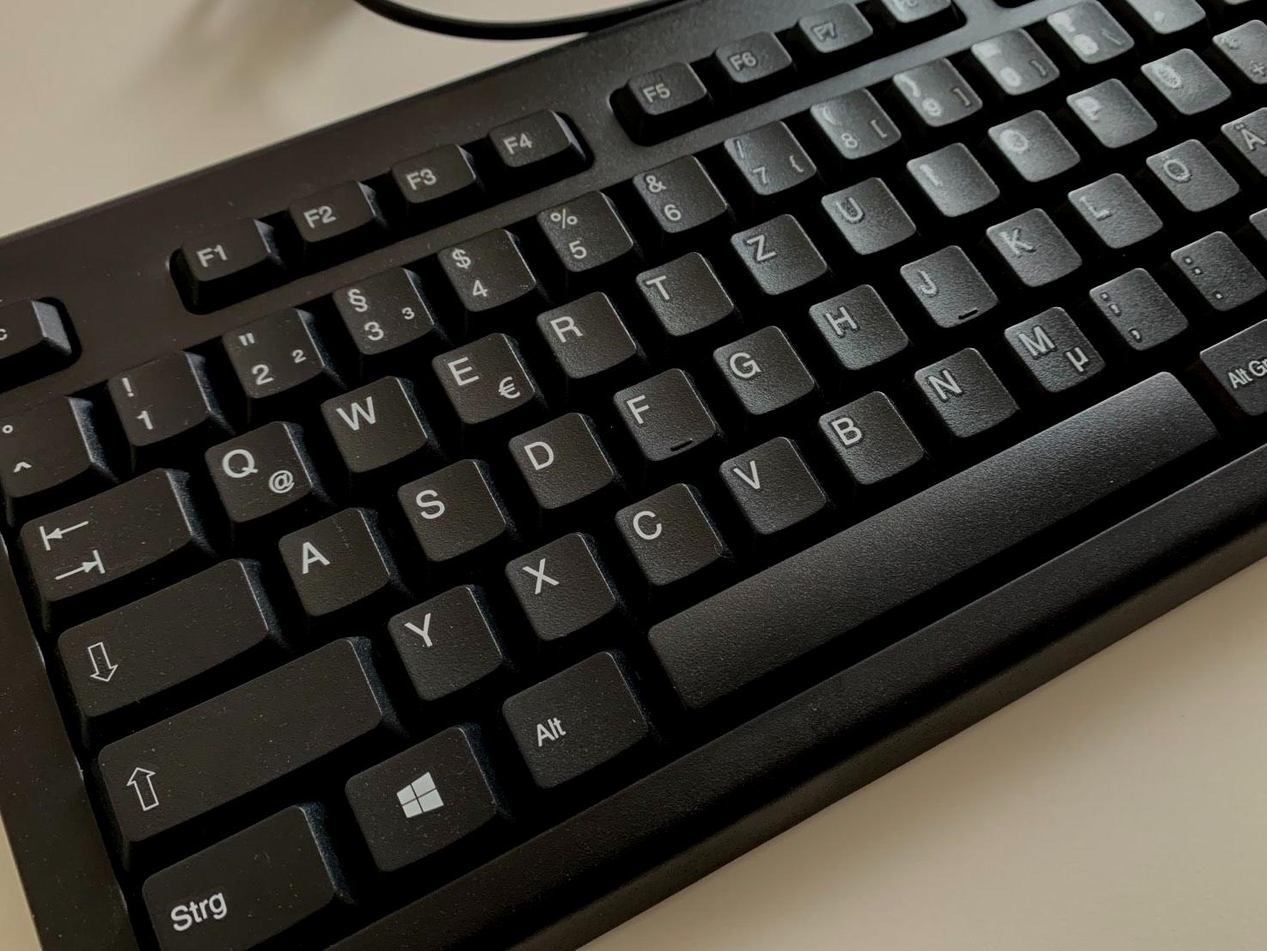0: (959, 22, 1063, 96)
1: (102, 345, 211, 451)
2: (214, 300, 326, 404)
3: (320, 259, 436, 360)
4: (424, 222, 539, 315)
5: (520, 182, 636, 277)
6: (613, 150, 732, 238)
7: (707, 115, 820, 199)
8: (794, 83, 904, 163)
9: (879, 53, 986, 128)
a: (270, 499, 393, 623)
ae: (1209, 101, 1267, 177)
alt-left: (493, 639, 664, 808)
altgr-right: (1181, 311, 1267, 437)
b: (795, 387, 937, 495)
c: (597, 479, 742, 597)
caret: (1, 387, 95, 502)
comma: (1074, 264, 1195, 359)
d: (493, 407, 627, 519)
e: (419, 328, 543, 429)
f: (597, 361, 725, 465)
g: (693, 321, 825, 424)
h: (790, 279, 915, 375)
i: (893, 138, 1004, 218)
j: (885, 241, 1006, 332)
k: (971, 204, 1088, 291)
keyboard: (1, 1, 1267, 951)
l: (1055, 168, 1169, 253)
m: (987, 303, 1113, 402)
minus: (1238, 190, 1267, 287)
n: (891, 343, 1028, 445)
o: (973, 106, 1089, 183)
oe: (1133, 135, 1247, 217)
p: (1055, 74, 1162, 150)
plus: (1210, 20, 1267, 87)
point: (1159, 226, 1267, 313)
q: (193, 419, 327, 533)
r: (523, 287, 644, 383)
s: (383, 452, 514, 570)
shift-left: (93, 638, 388, 841)
shift-lock: (48, 545, 277, 736)
space: (640, 357, 1250, 728)
ss: (1044, 1, 1135, 70)
strg-left: (130, 788, 352, 951)
t: (620, 247, 740, 340)
tab: (8, 459, 199, 614)
u: (805, 172, 922, 258)
ue: (1129, 44, 1236, 117)
v: (701, 434, 836, 539)
w: (310, 371, 429, 475)
x: (495, 527, 626, 646)
y: (385, 583, 505, 699)
z: (713, 209, 833, 297)
